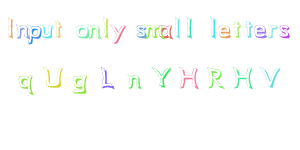H: (177, 65, 201, 90), (232, 65, 254, 90)
I: (2, 14, 19, 40)
L: (99, 65, 116, 91)
R: (205, 65, 225, 90)
U: (42, 64, 64, 88)
V: (259, 64, 280, 89)
Y: (150, 63, 171, 89)
a: (158, 23, 173, 40)
e: (253, 23, 267, 39), (217, 24, 231, 39)
g: (70, 75, 88, 95)
l: (205, 14, 218, 40), (100, 15, 111, 40), (172, 16, 183, 39), (184, 16, 194, 39)
m: (145, 24, 162, 39)
n: (126, 71, 143, 90), (15, 21, 30, 40), (86, 23, 101, 39)
o: (74, 23, 89, 39)
p: (26, 23, 43, 46)
q: (16, 74, 35, 97)
r: (267, 22, 278, 39)
s: (279, 22, 291, 40), (134, 24, 146, 38)
t: (53, 18, 64, 38), (232, 19, 243, 39), (243, 19, 253, 37)
u: (39, 23, 54, 40)
y: (110, 22, 126, 46)
